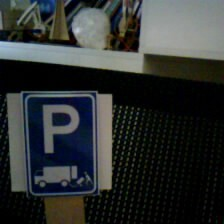load: (15, 83, 109, 201)
